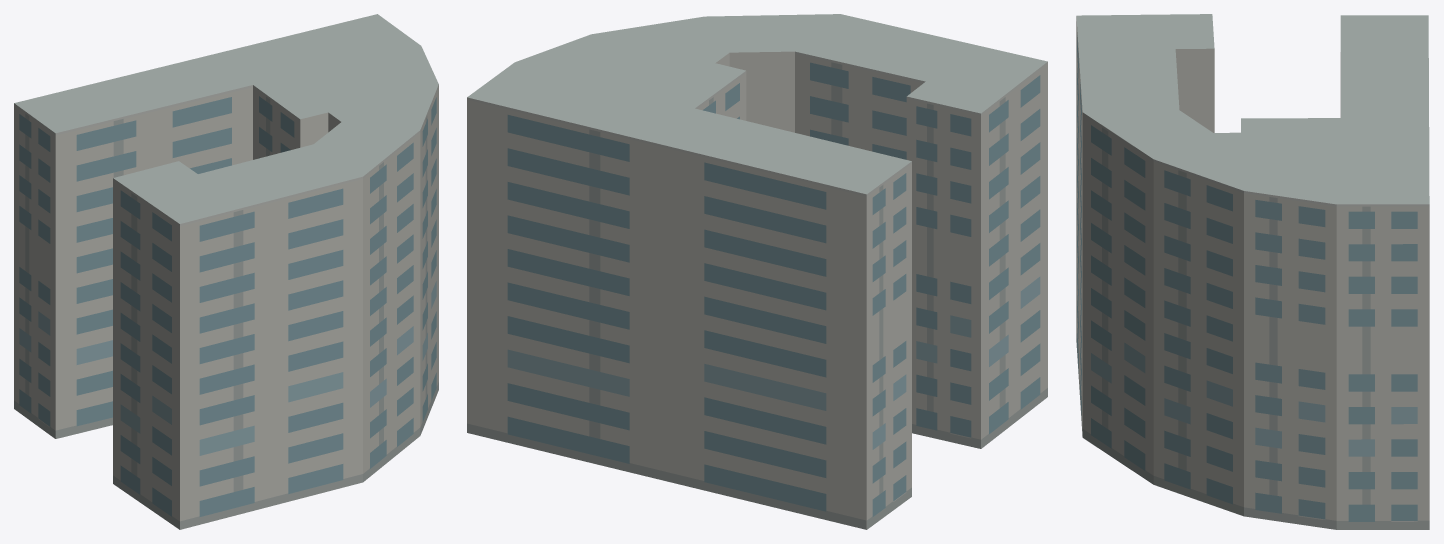
Rendered from residential-66d75dd0-d789-4294-9ac9-080c173c8f87.glb.
3 views of the same model, side by side, from view 1: azimuth 30°, elevation 25°; view 2: azimuth 150°, elevation 25°; view 3: azimuth 270°, elevation 25° (orthographic). The views are drawn at different scales.
Parts seen in each view (by area): view 1: residential-66d75dd0-d789-4294-9ac9-080c173c8f87.tmp; view 2: residential-66d75dd0-d789-4294-9ac9-080c173c8f87.tmp; view 3: residential-66d75dd0-d789-4294-9ac9-080c173c8f87.tmp.
Boxes of the visible parts, <box> form: residential-66d75dd0-d789-4294-9ac9-080c173c8f87.tmp: <box>14,14,438,529</box>; residential-66d75dd0-d789-4294-9ac9-080c173c8f87.tmp: <box>467,14,1047,529</box>; residential-66d75dd0-d789-4294-9ac9-080c173c8f87.tmp: <box>1076,14,1429,529</box>.
Size of the model in its own units: 43.93 by 35 by 34.42.
